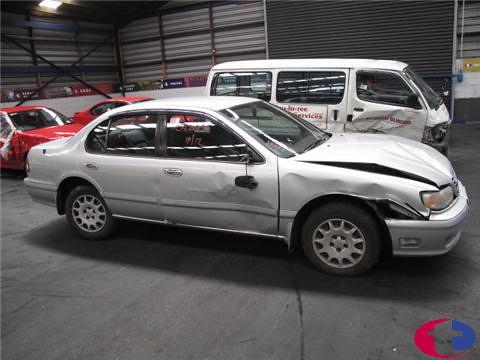bonnet-dent: (304, 136, 457, 194)
doorouter-dent: (160, 158, 268, 229)
fender-dent: (283, 163, 430, 233)
